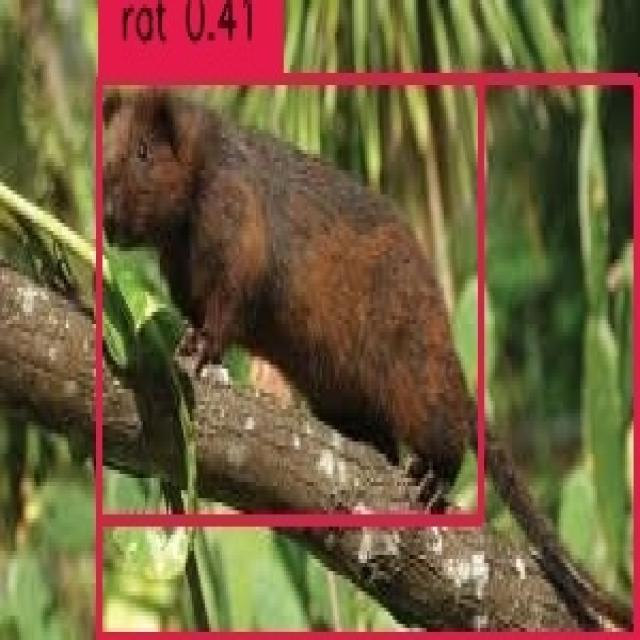rat: (96, 73, 634, 632), (96, 73, 478, 514)
